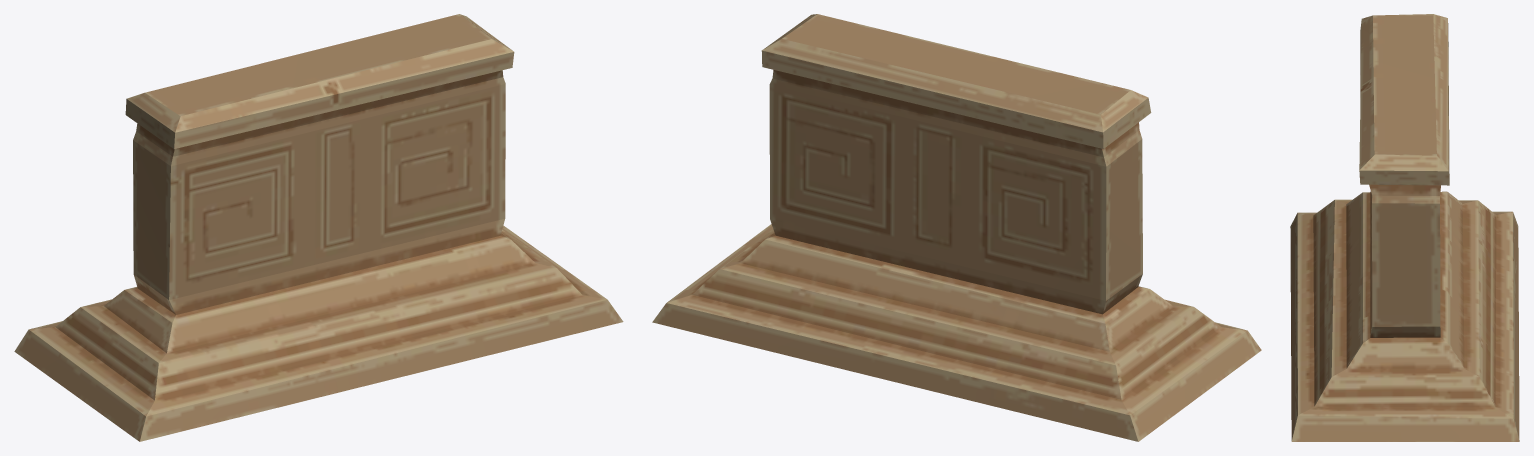
Rendered from ornamentPillarWhole.fbx.
3 renders of one model, left to right at view 1: azimuth 30°, elevation 25°; view 2: azimuth 150°, elevation 25°; view 3: azimuth 270°, elevation 25°, orthographic. The views are drawn at different scales.
Parts seen in each view (by area): view 1: ornamentPillarWhole; view 2: ornamentPillarWhole; view 3: ornamentPillarWhole.
Part boxes in pixels (x1,y1,x2,y2): ornamentPillarWhole: (14, 14, 623, 441); ornamentPillarWhole: (652, 14, 1261, 441); ornamentPillarWhole: (1290, 14, 1519, 441).
Bounding box in the file's own units: 5.11 × 2.74 × 2.28.
1 material, 1 textured.
